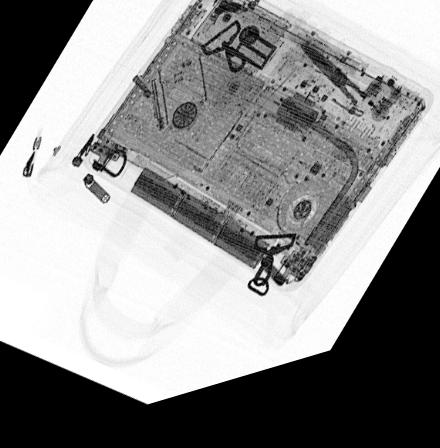Scissors: (294, 55, 375, 137)
